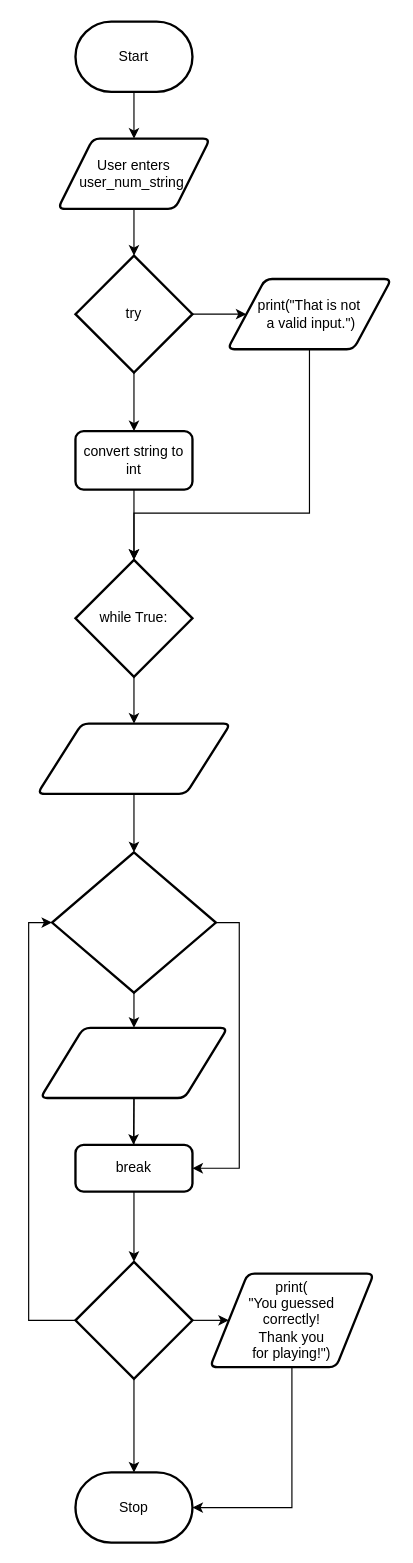
This 413x1563 diagram has some shape labels left out. The centre of each missing label's shape, as x and y in pixels:
else:: (x=133, y=1319)
if user_ num_int != correct_num:: (x=133, y=922)
print("You guessed incorrectly! Please try again."): (x=133, y=1062)
user_num_string = input("Input a number between 0 - 9: "): (x=133, y=758)
